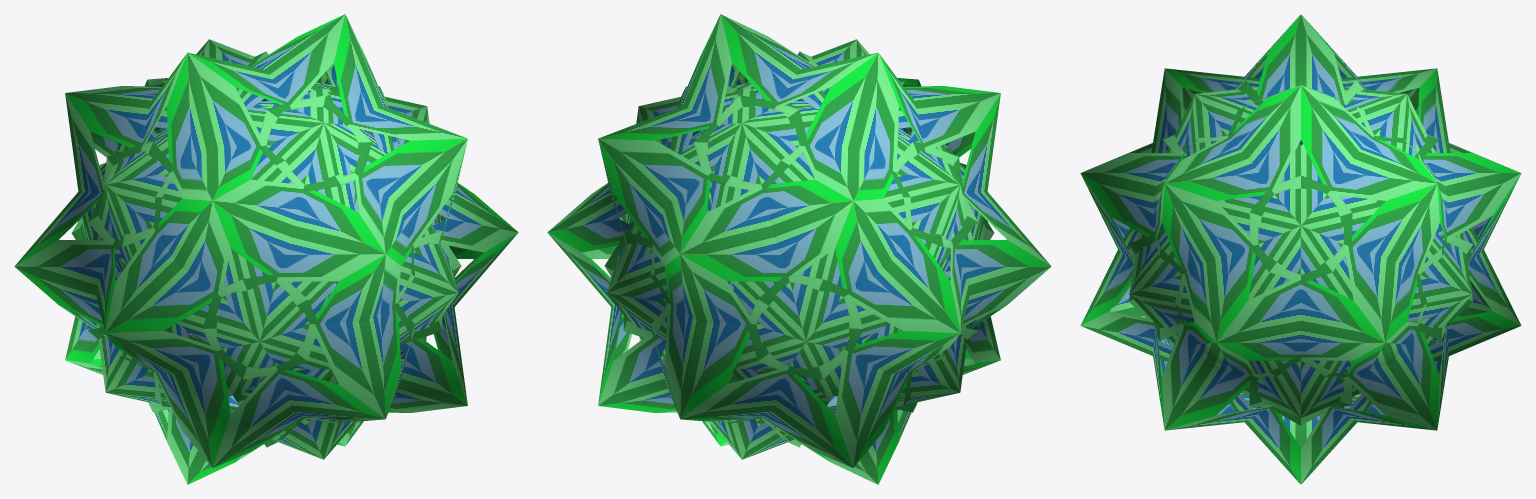
The model's file is 26MedialIcosacronicHexecontahedron.gltf.
3 renders of one model, left to right at view 1: azimuth 30°, elevation 25°; view 2: azimuth 150°, elevation 25°; view 3: azimuth 270°, elevation 25°, orthographic. The views are drawn at different scales.
Visible parts, largest first — view 1: MedialIcosacronicHexecontahedron9; view 2: MedialIcosacronicHexecontahedron9; view 3: MedialIcosacronicHexecontahedron9.
Boxes of the visible parts, x1,y1,x2,y2 form: MedialIcosacronicHexecontahedron9: [14, 14, 518, 484]; MedialIcosacronicHexecontahedron9: [547, 14, 1051, 484]; MedialIcosacronicHexecontahedron9: [1080, 14, 1521, 484].
Bounding box in the file's own units: 3.24 × 3.24 × 3.24.
Materials: 1 (1 with a texture image).
